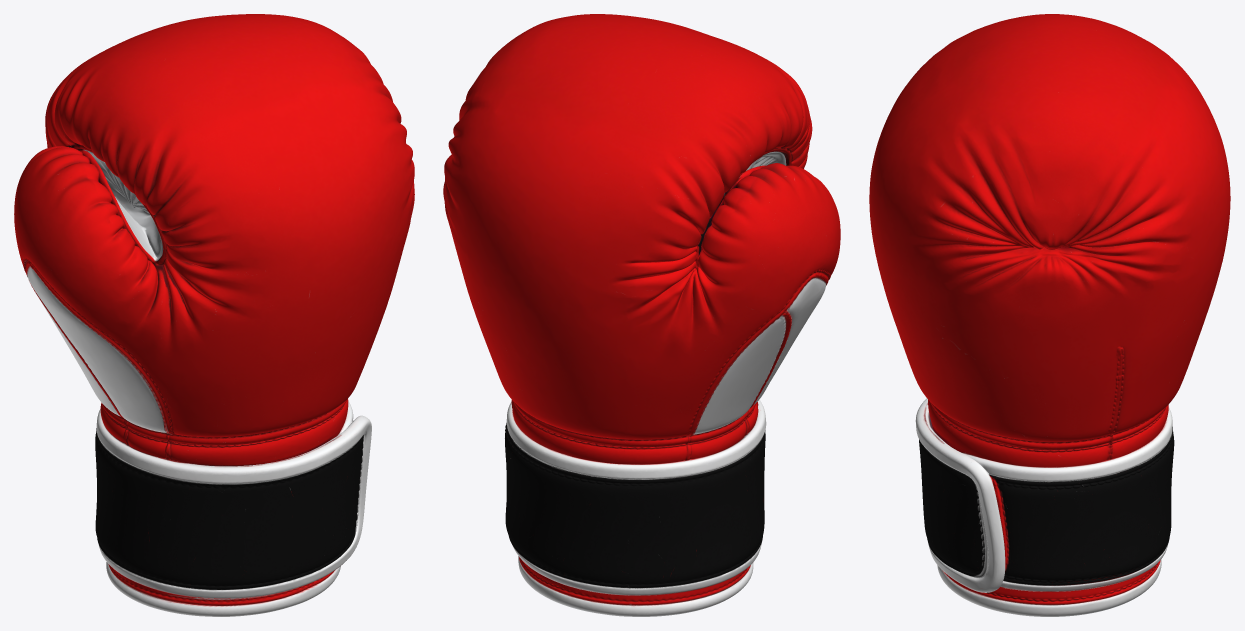
The model's file is guante derecho.glb.
The picture shows the model from 3 angles, left to right: view 1: azimuth 30°, elevation 25°; view 2: azimuth 150°, elevation 25°; view 3: azimuth 270°, elevation 25°; orthographic projection.
Size of the model in its own units: 1.3 by 1.9 by 1.18.
Materials: 1 (1 with a texture image).
